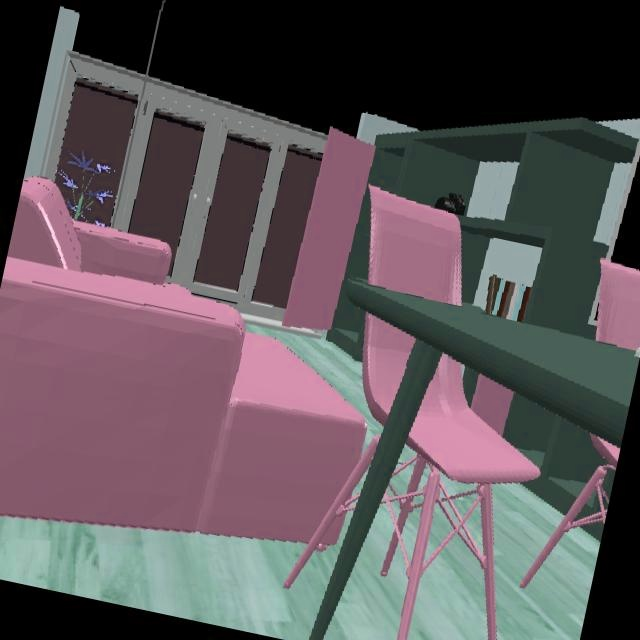book: (485, 275, 530, 323)
bookshelf: (326, 118, 640, 362), (469, 376, 602, 515)
chair: (409, 355, 540, 484), (367, 186, 462, 306), (361, 315, 415, 425), (595, 259, 640, 351)
sofa: (0, 195, 367, 543)
table: (308, 280, 640, 640), (343, 281, 640, 453)
